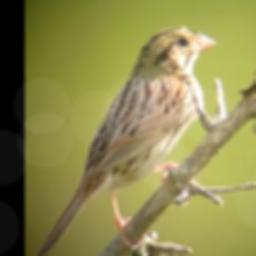Sparrow: (32, 22, 217, 255)
